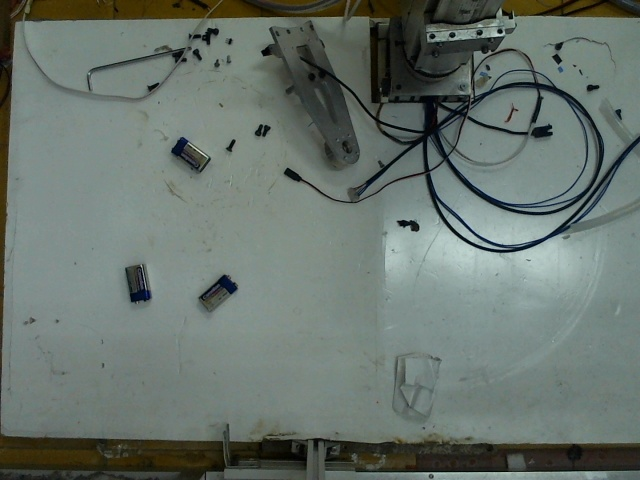battery: (196, 270, 235, 315), (118, 259, 157, 302), (170, 131, 209, 172)
